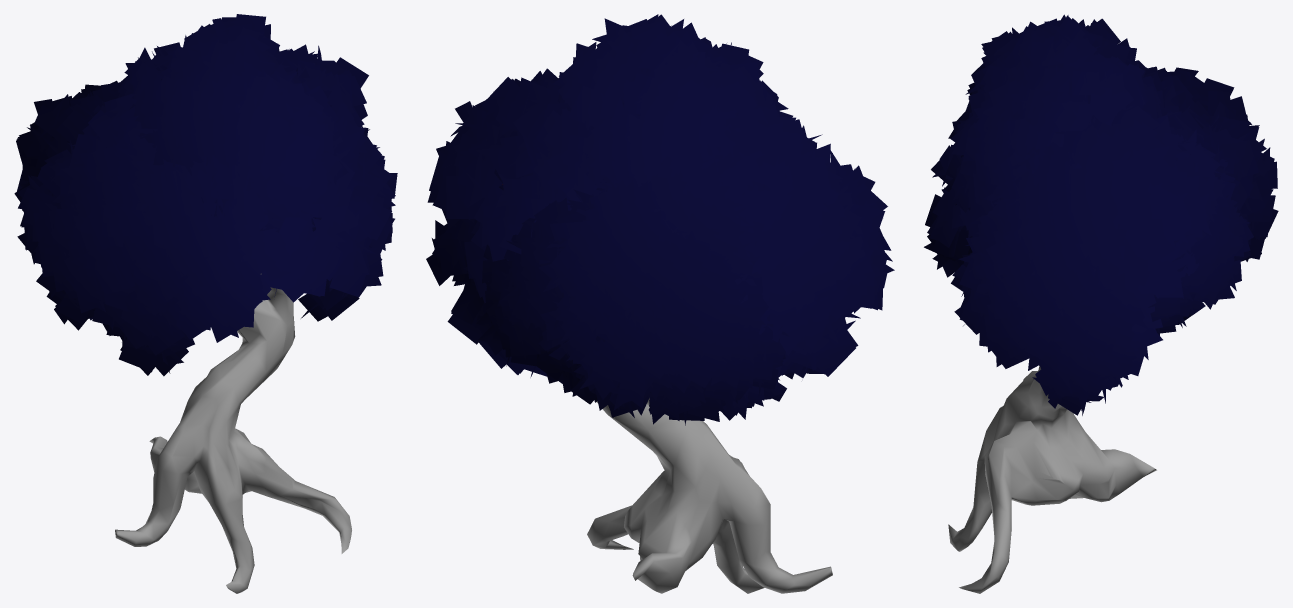
The model's file is tree3_low.fbx.
3 views of the same model, side by side, from view 1: azimuth 30°, elevation 25°; view 2: azimuth 150°, elevation 25°; view 3: azimuth 270°, elevation 25° (orthographic). The views are drawn at different scales.
Parts seen in each view (by area): view 1: tree3_leaf, tree3_low; view 2: tree3_leaf, tree3_low; view 3: tree3_leaf, tree3_low.
Boxes of the visible parts, x1=… form: tree3_leaf: x1=14, y1=14, x2=397, y2=376; tree3_low: x1=115, y1=273, x2=351, y2=593; tree3_leaf: x1=426, y1=14, x2=894, y2=425; tree3_low: x1=587, y1=398, x2=832, y2=593; tree3_leaf: x1=924, y1=14, x2=1278, y2=415; tree3_low: x1=948, y1=366, x2=1156, y2=593.
Bounding box in the file's own units: 845 × 1186 × 697.
